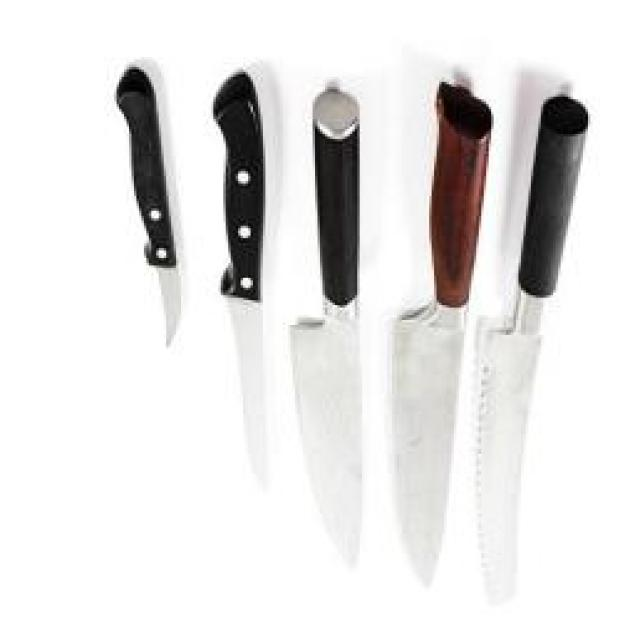knife: (472, 88, 593, 623), (383, 60, 491, 605), (288, 31, 362, 576), (211, 56, 273, 493), (113, 57, 183, 360)
